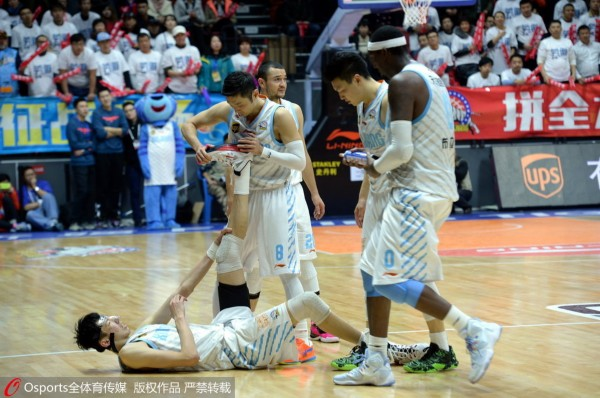10+: (1, 1, 597, 384)
down: (72, 141, 445, 375)
